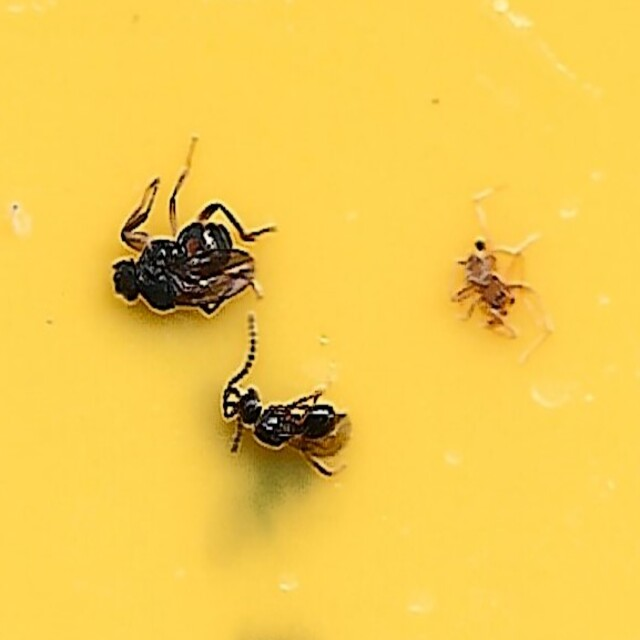Brachycera: (111, 156, 275, 322)
Hymenoptera: (222, 316, 355, 484)
Nematocera: (459, 234, 529, 343)
